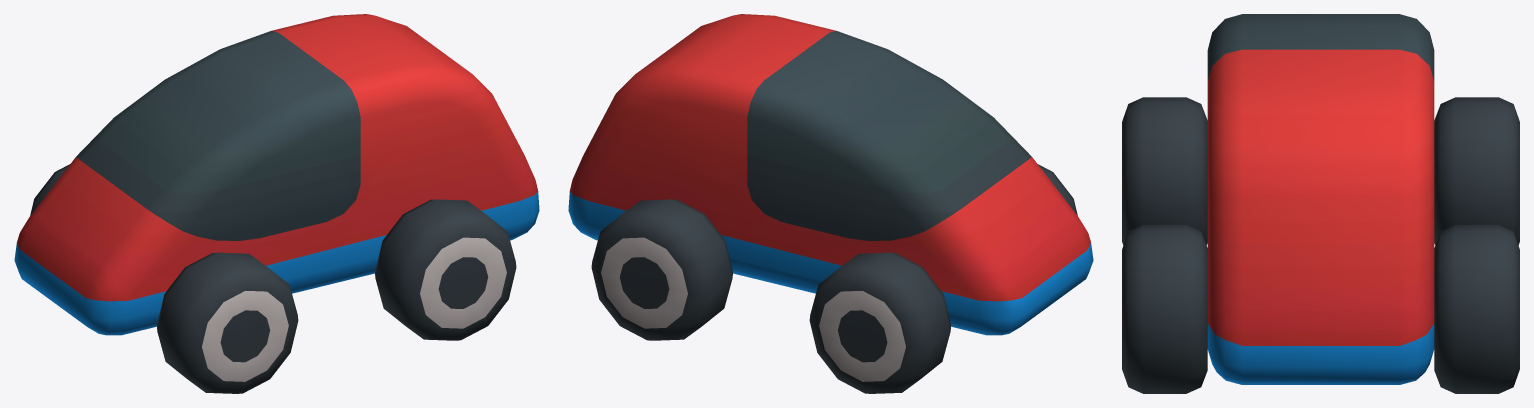
Rendered from Toy_02.glb.
3 views of the same model, side by side, from view 1: azimuth 30°, elevation 25°; view 2: azimuth 150°, elevation 25°; view 3: azimuth 270°, elevation 25° (orthographic). The views are drawn at different scales.
Parts seen in each view (by area): view 1: Toy_02; view 2: Toy_02; view 3: Toy_02.
Part boxes in pixels (x1,y1,x2,y2): Toy_02: (14, 14, 539, 393); Toy_02: (568, 14, 1093, 393); Toy_02: (1122, 14, 1519, 393).
Size of the model in its own units: 0.2352 by 0.1224 by 0.149.
1 material, 1 textured.
